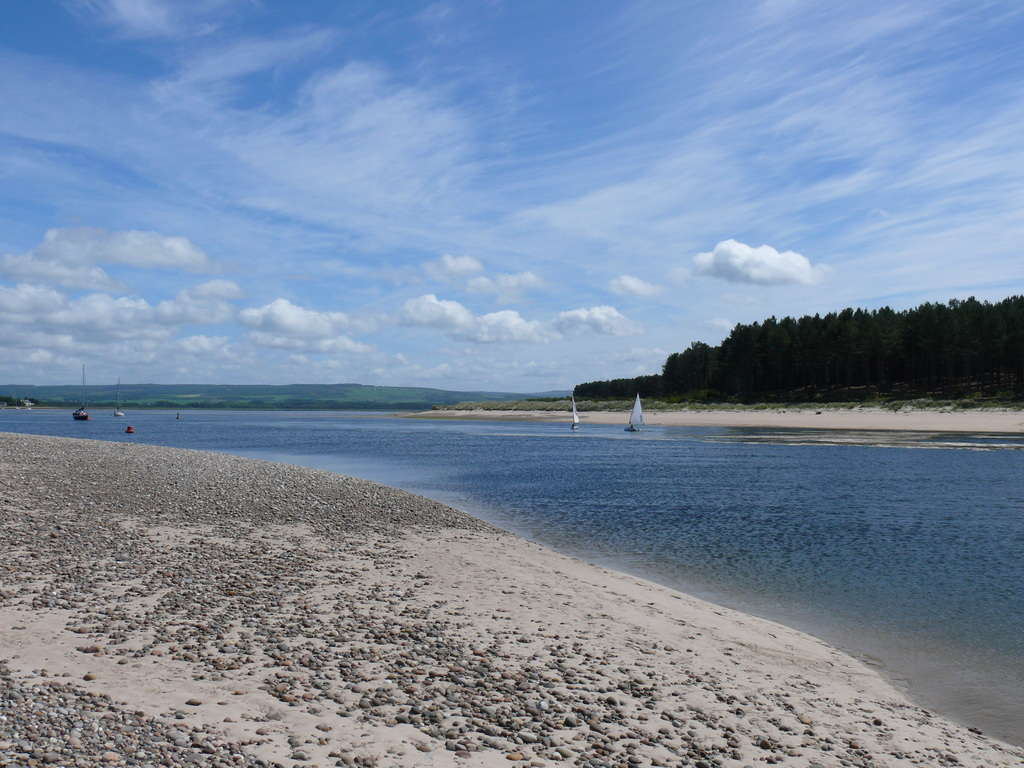Tree: (565, 288, 1023, 408)
